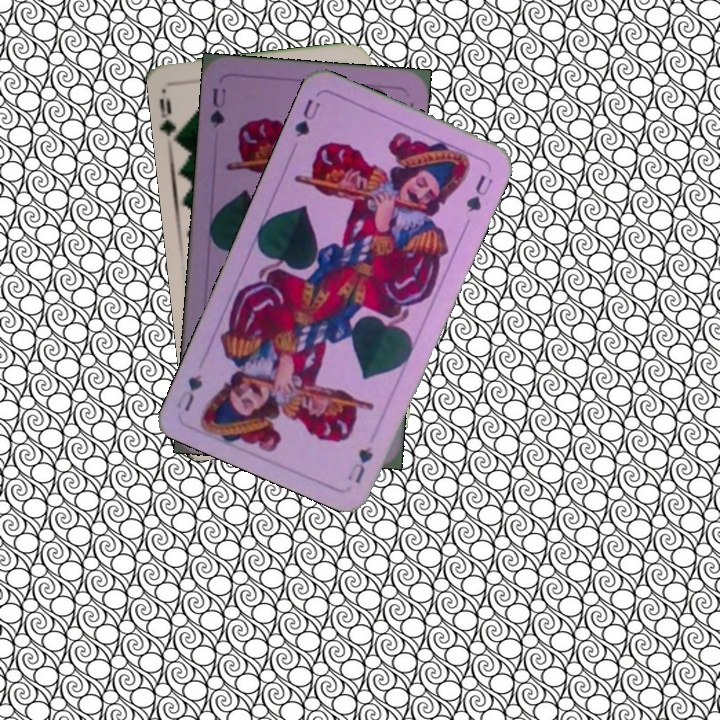G9: (155, 94, 186, 145)
GU: (290, 94, 323, 140), (343, 442, 376, 486), (205, 84, 229, 131)
